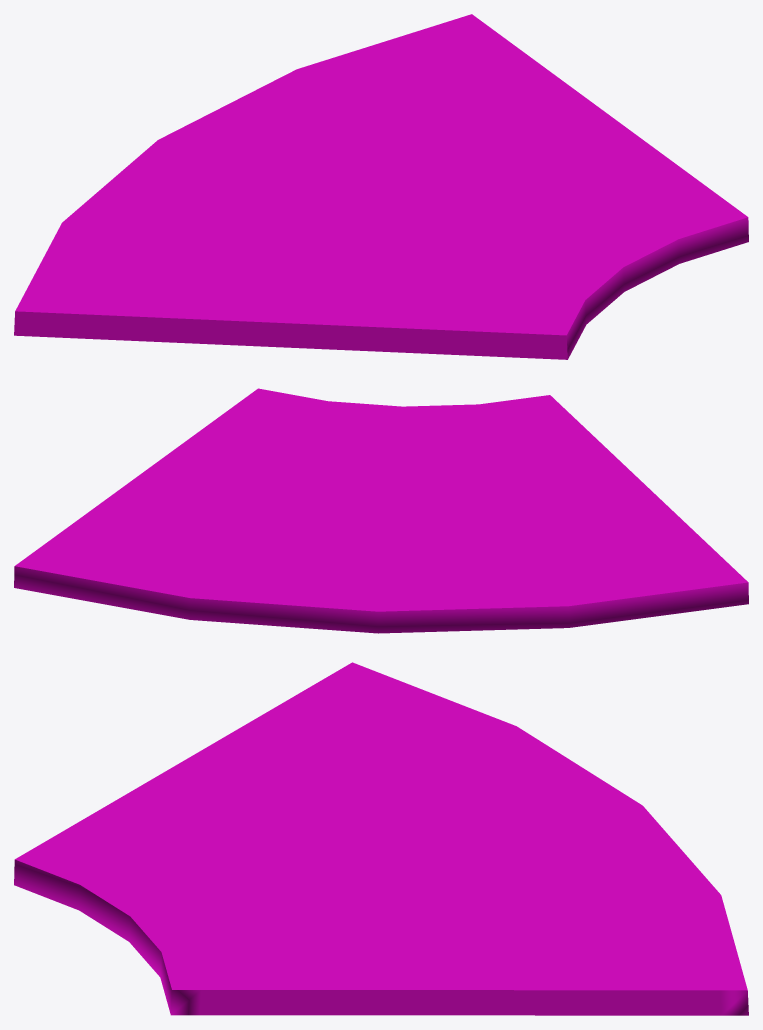
File: Plastic_Pipe_F_30Deg_Inv.fbx
3 views of the same model, one above another, from view 1: azimuth 30°, elevation 25°; view 2: azimuth 150°, elevation 25°; view 3: azimuth 270°, elevation 25° (orthographic). The views are drawn at different scales.
Parts seen in each view (by area): view 1: Plastic_Pipe_F_30Deg_Inv; view 2: Plastic_Pipe_F_30Deg_Inv; view 3: Plastic_Pipe_F_30Deg_Inv.
Boxes of the visible parts, x1,y1,x2,y2 form: Plastic_Pipe_F_30Deg_Inv: (14,14,748,359); Plastic_Pipe_F_30Deg_Inv: (14,388,748,633); Plastic_Pipe_F_30Deg_Inv: (14,662,748,1015).
Size of the model in its own units: 6.25 by 0.2246 by 5.91.
